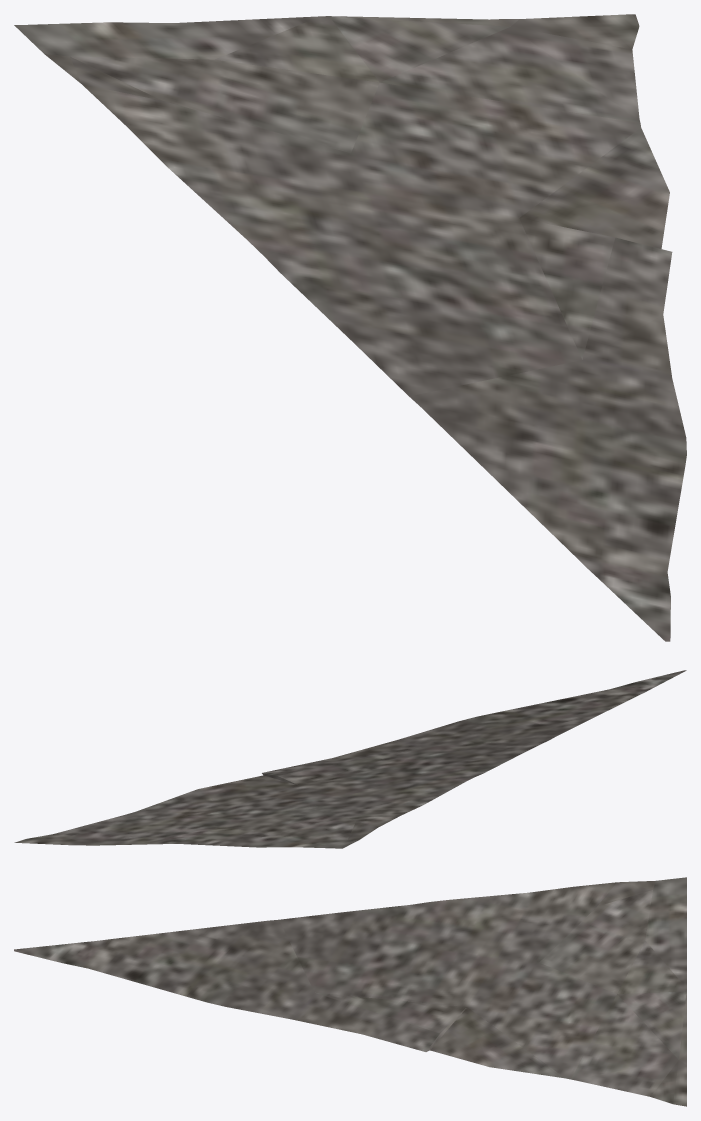
The picture shows the model from 3 angles, top to bottom: view 1: azimuth 30°, elevation 25°; view 2: azimuth 150°, elevation 25°; view 3: azimuth 270°, elevation 25°; orthographic projection. The views are drawn at different scales.
Bounding box in the file's own units: 0.4613 × 0.0998 × 0.8374.
1 material, 1 textured.
